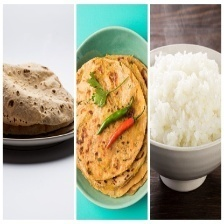rice: (149, 50, 224, 148)
